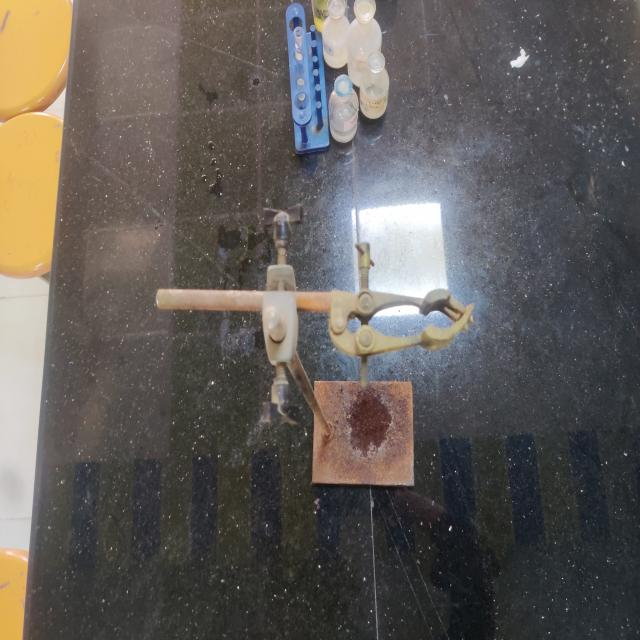Burette_Stands: (140, 195, 484, 552)
